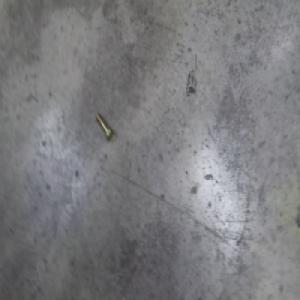Bolt: (92, 110, 112, 141)
